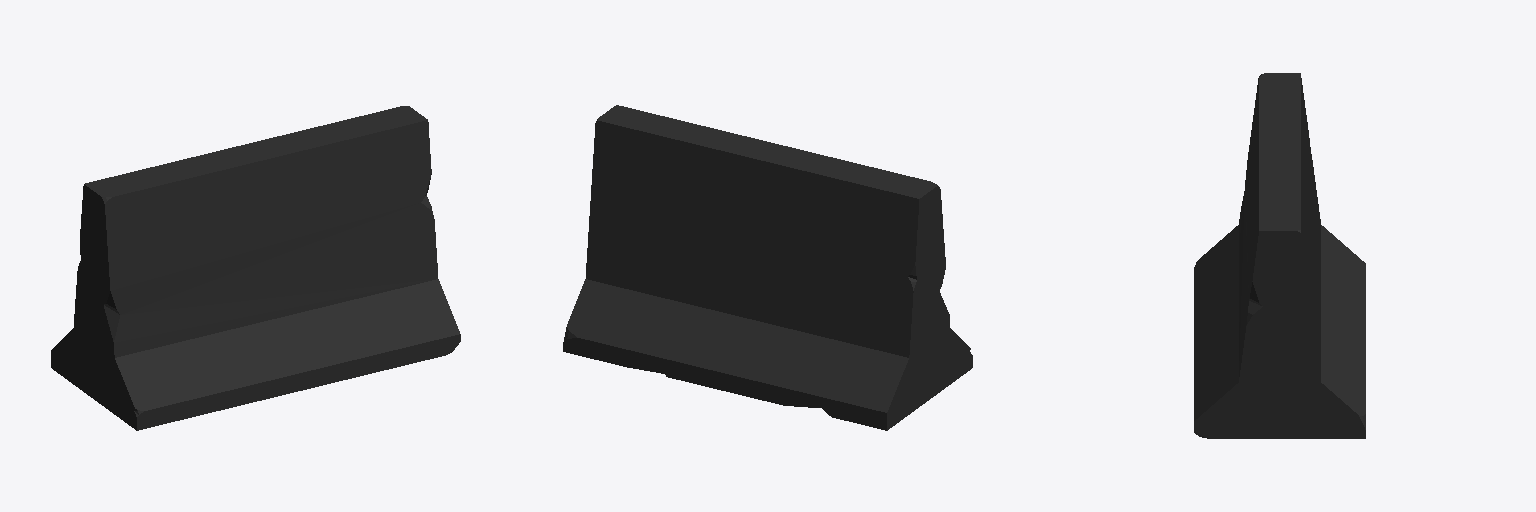
The model's file is ConcreteBarrier.obj.
The picture shows the model from 3 angles: view 1: azimuth 30°, elevation 25°; view 2: azimuth 150°, elevation 25°; view 3: azimuth 270°, elevation 25°; orthographic projection.
Visible parts, largest first — view 1: Concrete_Barrier_Cube; view 2: Concrete_Barrier_Cube; view 3: Concrete_Barrier_Cube.
Part boxes in pixels (x1,y1,x2,y2): Concrete_Barrier_Cube: (51, 106, 460, 430); Concrete_Barrier_Cube: (563, 105, 972, 430); Concrete_Barrier_Cube: (1194, 73, 1365, 438).
Bounding box in the file's own units: 1.31 × 0.806 × 0.6006.